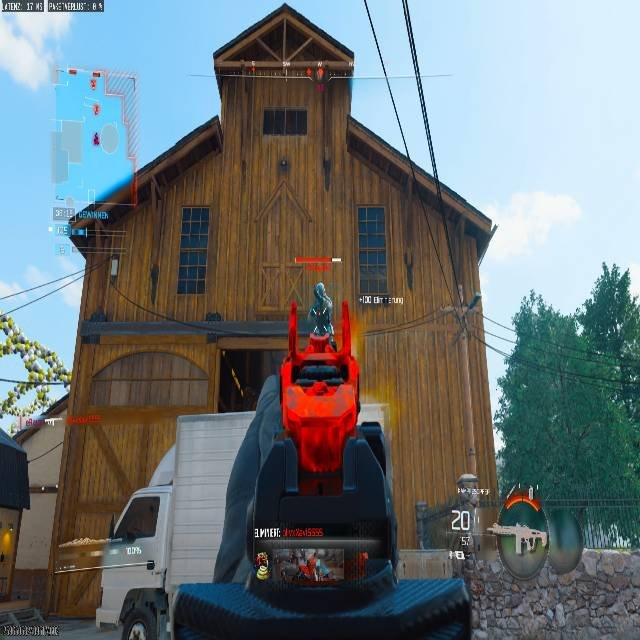head: (314, 282, 324, 297)
player: (448, 473, 483, 532), (308, 282, 337, 352)
